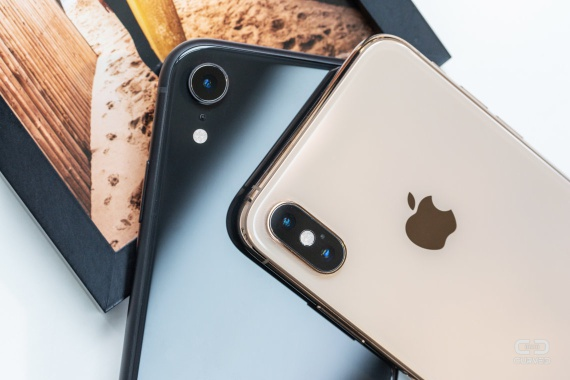apple: (396, 181, 462, 263)
